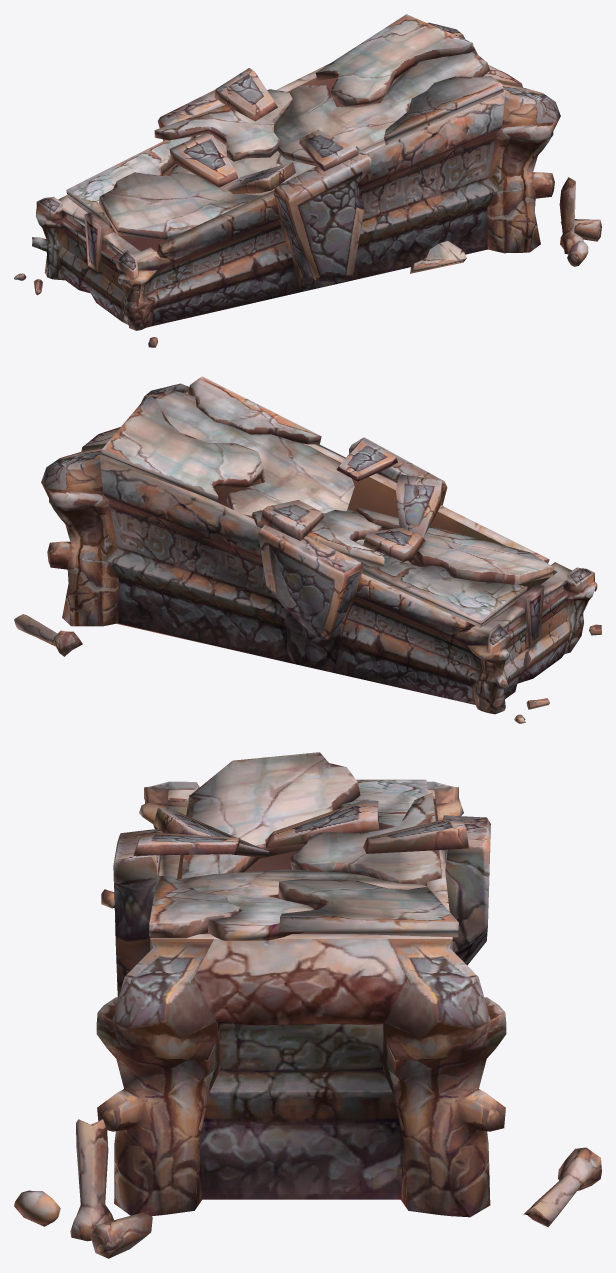
The model's file is kor_tomb_item_sarcophagus_ruin.glb.
3 renders of one model, top to bottom at view 1: azimuth 30°, elevation 25°; view 2: azimuth 150°, elevation 25°; view 3: azimuth 270°, elevation 25°, orthographic. The views are drawn at different scales.
Parts seen in each view (by area): view 1: kor_tomb_item_sarcophagus; view 2: kor_tomb_item_sarcophagus; view 3: kor_tomb_item_sarcophagus.
Part boxes in pixels (bbox=[...]): kor_tomb_item_sarcophagus: bbox=[14, 14, 601, 347]; kor_tomb_item_sarcophagus: bbox=[14, 376, 601, 723]; kor_tomb_item_sarcophagus: bbox=[14, 752, 601, 1258].
Bounding box in the file's own units: 0.7515 × 0.2568 × 0.4841.
1 material, 1 textured.
